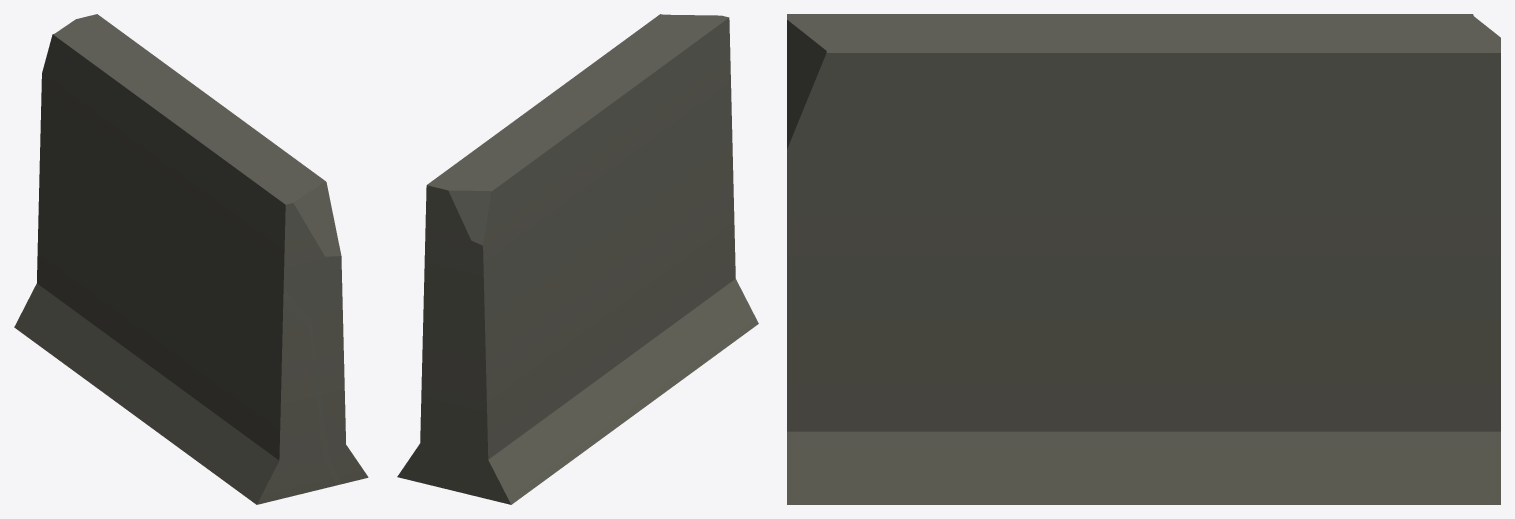
The model's file is RoadPart_06.fbx.
The picture shows the model from 3 angles, left to right: view 1: azimuth 30°, elevation 25°; view 2: azimuth 150°, elevation 25°; view 3: azimuth 270°, elevation 25°; orthographic projection. The views are drawn at different scales.
Visible parts, largest first — view 1: RoadPart_06; view 2: RoadPart_06; view 3: RoadPart_06.
Part boxes in pixels (bbox=[...]): RoadPart_06: bbox=[14, 14, 368, 504]; RoadPart_06: bbox=[397, 14, 758, 504]; RoadPart_06: bbox=[787, 14, 1500, 504].
Bounding box in the file's own units: 0.4 × 1 × 1.5.
